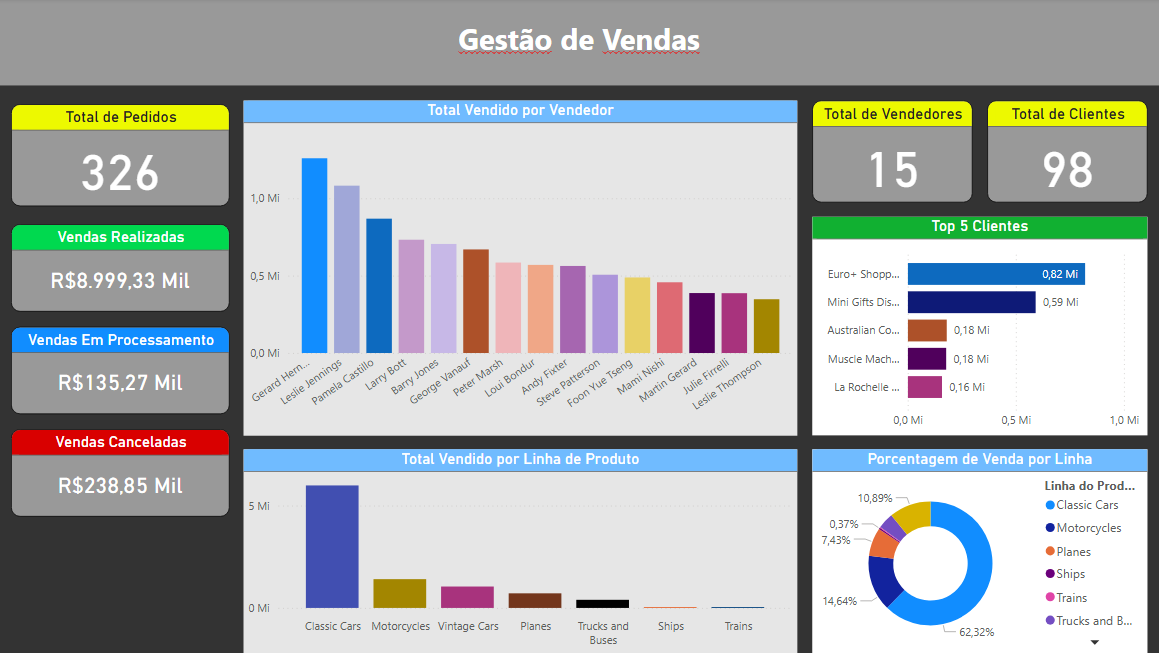

The page's visual inventory and layout, read from the dashboard file:
{"tool":"powerbi","page":{"name":"Página 1","canvas":[1280,720],"ordinal":0},"visuals":[{"type":"textbox","box":[0,0,1280,96],"z":0},{"type":"card","title":"Vendas Realizadas","fields":{"Values":["_Totais.TotalEnviado"]},"box":[16,248.9,240,96],"z":1000},{"type":"card","title":"Vendas Canceladas","fields":{"Values":["_Totais.TotalCancelado"]},"box":[16,472.9,240,96],"z":2000},{"type":"card","title":"Vendas Em Processamento","fields":{"Values":["_Totais.TotalEmProcessamento"]},"box":[16,360.9,240,96],"z":3000},{"type":"card","title":"Total de Pedidos","fields":{"Values":["_Totais.TotalPedido"]},"box":[16,116.6,240,112],"z":4000},{"type":"lineClusteredColumnComboChart","title":"Total Vendido por Vendedor","fields":{"Category":["classicmodels vw_pedidos.Vendedor"],"Y":["classicmodels vw_pedidos.Total do pedido"]},"box":[272,112,608,368],"z":5000},{"type":"card","title":"Total de Clientes","fields":{"Values":["_Totais.TotalClientes"]},"box":[1088,112,176,112],"z":6000},{"type":"clusteredBarChart","title":"Top 5 Clientes","fields":{"Category":["classicmodels vw_pedidos.Nome do cliente"],"Y":["classicmodels vw_pedidos.Total do pedido"]},"box":[896,240,368,240],"z":7000},{"type":"card","title":"Total de Vendedores","fields":{"Values":["_Totais.TotalVendedores"]},"box":[896,112,176,112],"z":8000},{"type":"lineClusteredColumnComboChart","title":"Total Vendido por Linha de Produto","fields":{"Category":["classicmodels vw_pedidos.Linha do Produto"],"Y":["classicmodels vw_pedidos.Total do pedido"]},"box":[272,496,608,224],"z":8001},{"type":"donutChart","title":"Porcentagem de Venda por Linha","fields":{"Series":["classicmodels vw_pedidos.Linha do Produto"],"Y":["classicmodels vw_pedidos.Total do pedido"]},"box":[896,496,368,224],"z":8002}]}

Visuals, with their boxes in screenshot pixels (x1, y1, x2, y2), scaled from the page's 1280x720 canvas onto the 1159x653 screenshot:
textbox: <region>0, 0, 1158, 87</region>
"Vendas Realizadas" card: <region>14, 226, 232, 313</region>
"Vendas Canceladas" card: <region>14, 429, 232, 516</region>
"Vendas Em Processamento" card: <region>14, 327, 232, 414</region>
"Total de Pedidos" card: <region>14, 106, 232, 207</region>
"Total Vendido por Vendedor" lineClusteredColumnComboChart: <region>246, 102, 797, 435</region>
"Total de Clientes" card: <region>985, 102, 1145, 203</region>
"Top 5 Clientes" clusteredBarChart: <region>811, 218, 1145, 435</region>
"Total de Vendedores" card: <region>811, 102, 971, 203</region>
"Total Vendido por Linha de Produto" lineClusteredColumnComboChart: <region>246, 450, 797, 652</region>
"Porcentagem de Venda por Linha" donutChart: <region>811, 450, 1145, 652</region>
